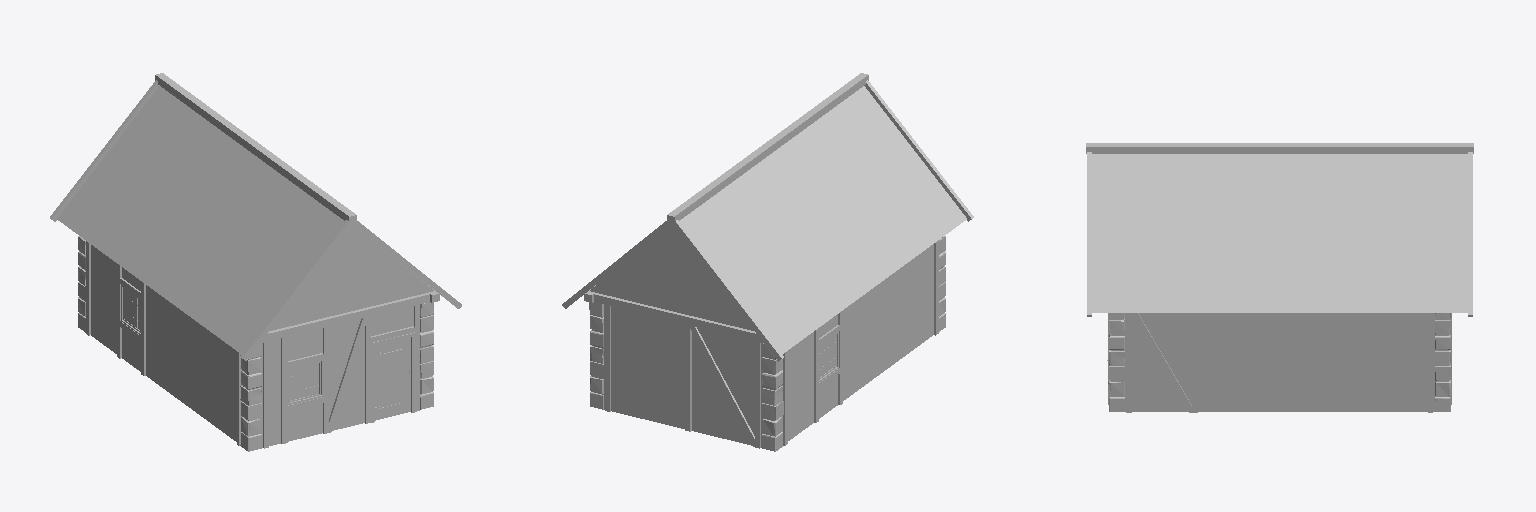
Rendered from lilhouse.obj.
3 views of the same model, side by side, from view 1: azimuth 30°, elevation 25°; view 2: azimuth 150°, elevation 25°; view 3: azimuth 270°, elevation 25° (orthographic).
Visible parts, largest first — view 1: the_lilhouse; view 2: the_lilhouse; view 3: the_lilhouse.
Boxes of the visible parts, box(x1,y1,x2,y2) form: the_lilhouse: box(50, 73, 461, 451); the_lilhouse: box(562, 73, 973, 451); the_lilhouse: box(1086, 143, 1473, 412).
Bounding box in the file's own units: 26.79 × 25.78 × 40.84.